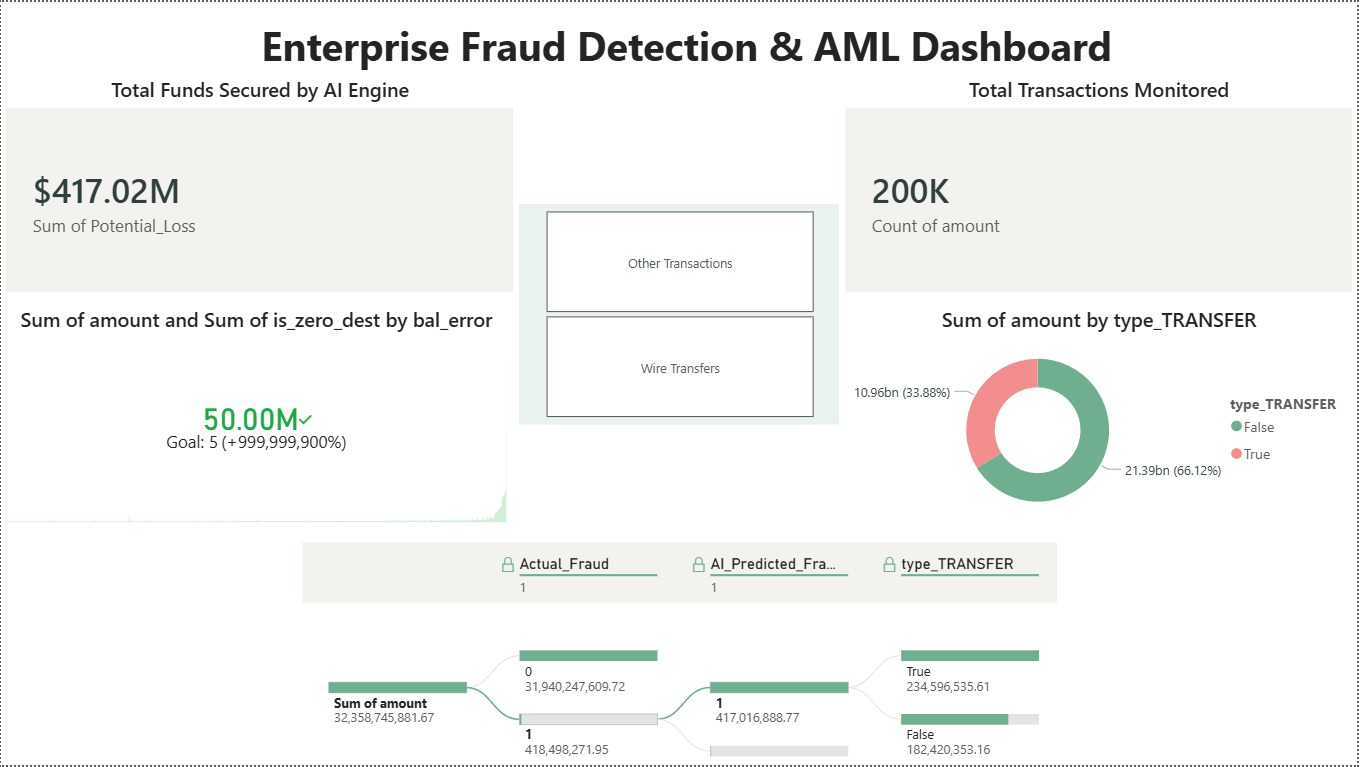

The dashboard page shown, as its layout file describes it:
{"tool":"powerbi","page":{"name":"Page 1","canvas":[1280,720],"ordinal":0},"visuals":[{"type":"cardVisual","title":"Total Funds Secured by AI Engine","fields":{"Data":["Sum(fraud_predictions_for_powerbi.Potential_Loss)"]},"box":[0,69.7,489,209.1],"z":0},{"type":"textbox","box":[230.1,10,833.1,59.7],"z":1000},{"type":"decompositionTreeVisual","fields":{"Analyze":["Sum(fraud_predictions_for_powerbi.amount)"],"ExplainBy":["fraud_predictions_for_powerbi.Actual_Fraud","fraud_predictions_for_powerbi.AI_Predicted_Fraud","fraud_predictions_for_powerbi.type_TRANSFER"]},"box":[278.8,504.5,722.4,215.7],"z":2000},{"type":"donutChart","fields":{"Y":["Sum(fraud_predictions_for_powerbi.amount)"],"Category":["fraud_predictions_for_powerbi.type_TRANSFER"]},"box":[791.1,286.4,488.9,209.4],"z":3000},{"type":"kpi","fields":{"Indicator":["Sum(fraud_predictions_for_powerbi.amount)"],"TrendLine":["fraud_predictions_for_powerbi.bal_error"],"Goal":["Sum(fraud_predictions_for_powerbi.is_zero_dest)"]},"box":[0,286.4,482,209.4],"z":4000},{"type":"cardVisual","title":"Total Transactions Monitored","fields":{"Data":["CountNonNull(fraud_predictions_for_powerbi.amount)"]},"box":[791.1,70.1,488.9,209.4],"z":5000},{"type":"slicer","fields":{"Values":["fraud_predictions_for_powerbi.Transaction_Filter"]},"box":[488.9,190.6,302.2,208.4],"z":6000}]}

Visuals, with their boxes in screenshot pixels (x1, y1, x2, y2), scaled from the page's 1280x720 canvas onto the 1360x767 screenshot:
"Total Funds Secured by AI Engine" cardVisual: box=[0, 74, 520, 297]
textbox: box=[244, 11, 1130, 74]
decompositionTreeVisual - Sum(fraud_predictions_for_powerbi.amount) x fraud_predictions_for_powerbi.Actual_Fraud: box=[296, 537, 1064, 766]
donutChart - Sum(fraud_predictions_for_powerbi.amount) x fraud_predictions_for_powerbi.type_TRANSFER: box=[841, 305, 1359, 528]
kpi - Sum(fraud_predictions_for_powerbi.amount) x fraud_predictions_for_powerbi.bal_error: box=[0, 305, 512, 528]
"Total Transactions Monitored" cardVisual: box=[841, 75, 1359, 298]
slicer - fraud_predictions_for_powerbi.Transaction_Filter: box=[519, 203, 841, 425]
